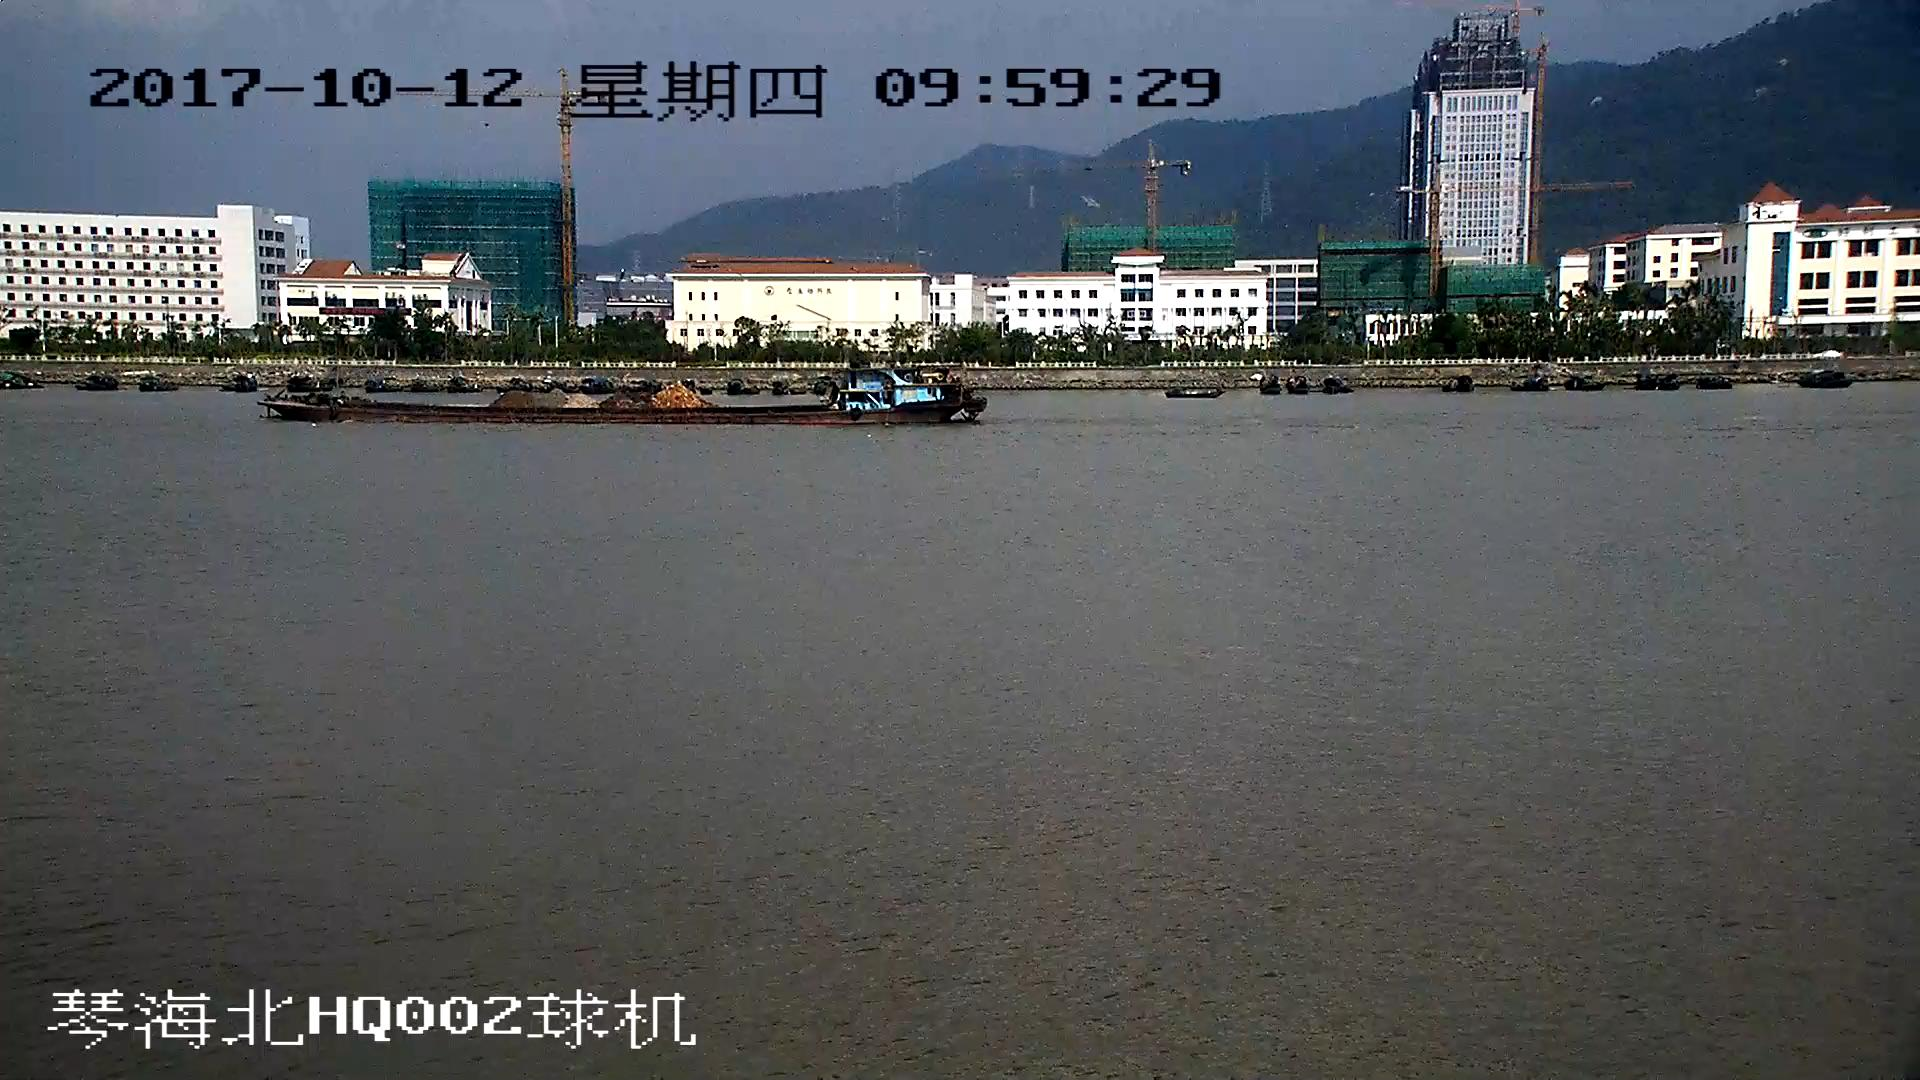ore carrier: (265, 362, 984, 429)
